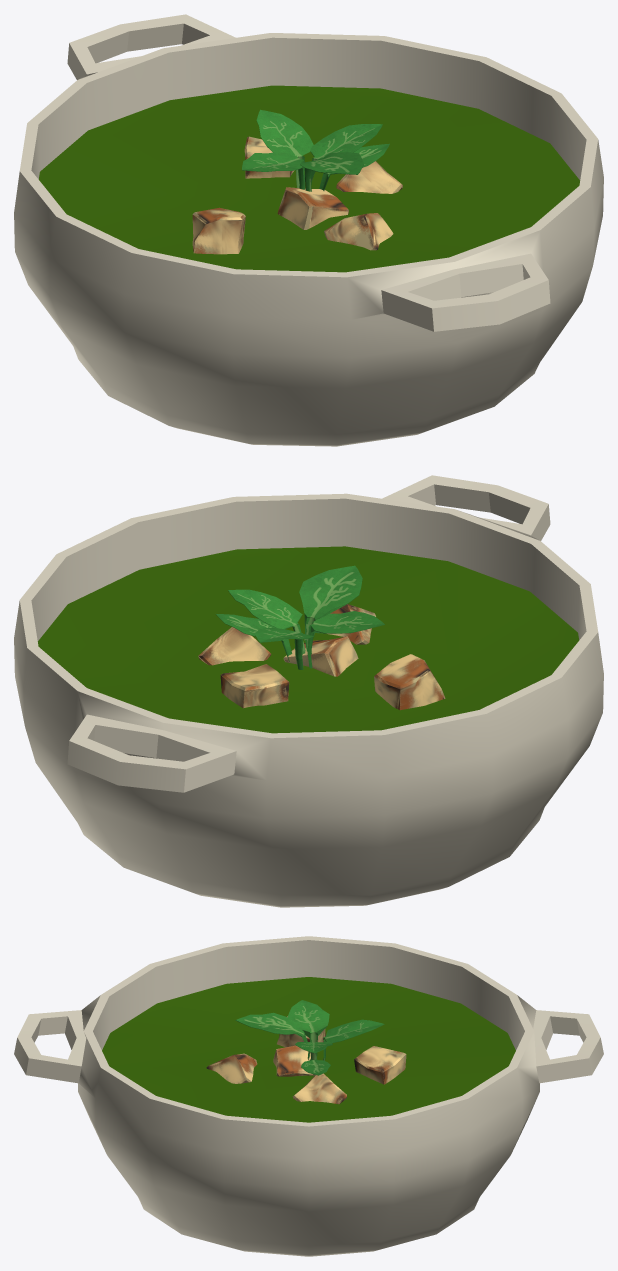
File: cremaespinacaFull.glb
3 renders of one model, top to bottom at view 1: azimuth 30°, elevation 25°; view 2: azimuth 150°, elevation 25°; view 3: azimuth 270°, elevation 25°, orthographic. The views are drawn at different scales.
Parts seen in each view (by area): view 1: pPlane3, pCube7, pCube4, pCube5, pCube1, pCube3, pCube2; view 2: pPlane3, pCube7, pCube4, pCube2, pCube3, pCube5, pCube1; view 3: pPlane3, pCube7, pCube2, pCube1, pCube3, pCube5.
Boxes of the visible parts, x1,y1,x2,y2 form: pPlane3: [14, 14, 603, 446]; pCube7: [242, 109, 389, 191]; pCube4: [192, 207, 245, 254]; pCube5: [277, 187, 348, 229]; pCube1: [324, 213, 393, 250]; pCube3: [336, 161, 402, 193]; pCube2: [244, 136, 294, 178]; pPlane3: [14, 475, 603, 907]; pCube7: [216, 565, 384, 669]; pCube4: [374, 654, 445, 710]; pCube2: [220, 664, 289, 708]; pCube3: [198, 627, 271, 665]; pCube5: [283, 636, 358, 676]; pCube1: [327, 604, 375, 644]; pPlane3: [14, 936, 603, 1256]; pCube7: [235, 1000, 384, 1075]; pCube2: [354, 1046, 406, 1084]; pCube1: [206, 1053, 257, 1083]; pCube3: [292, 1073, 346, 1104]; pCube5: [273, 1045, 314, 1076].
Bounding box in the file's own units: 1.35 × 0.5436 × 1.72.
4 materials, 2 textured.
